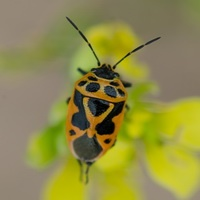insect: (66, 17, 160, 182)
